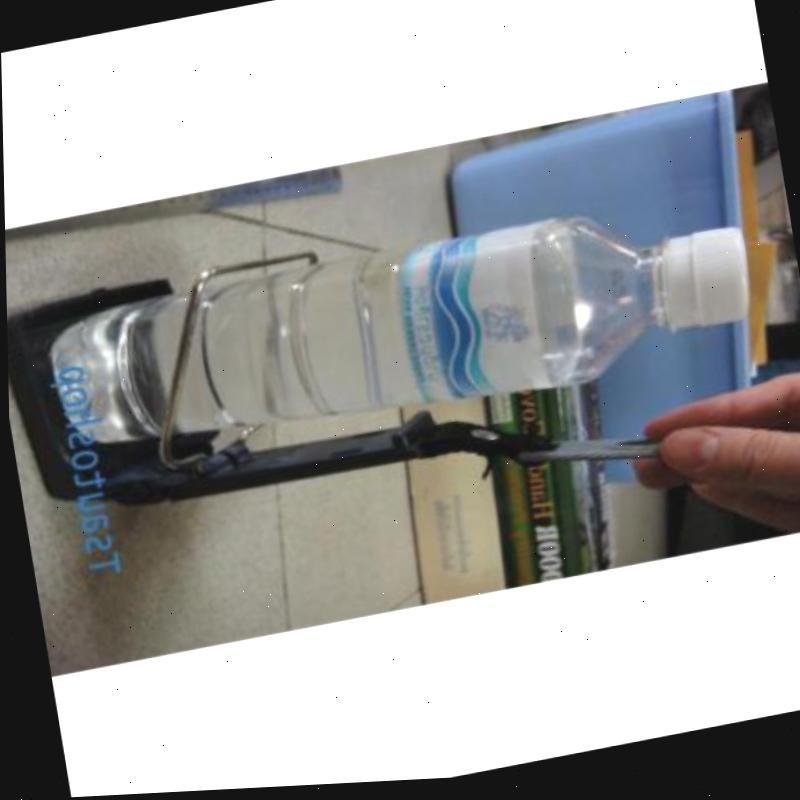botella: (46, 199, 758, 485)
